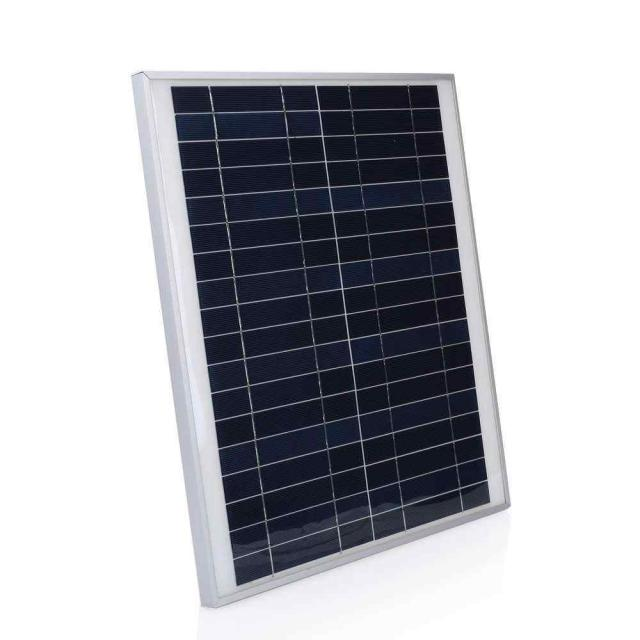clean-solar-panel: (234, 244, 302, 275)
